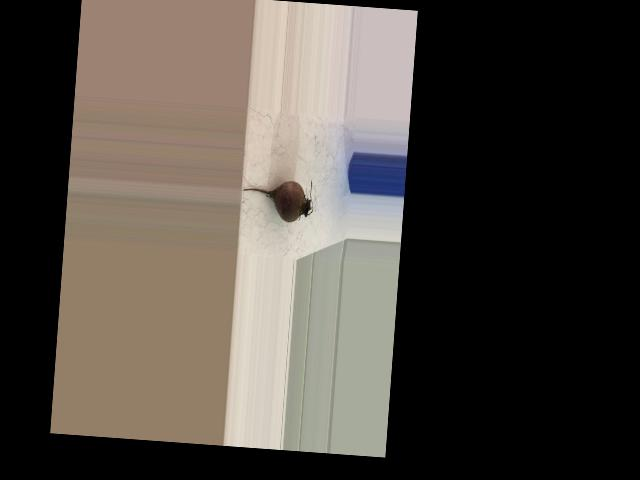beet: (240, 174, 315, 223)
